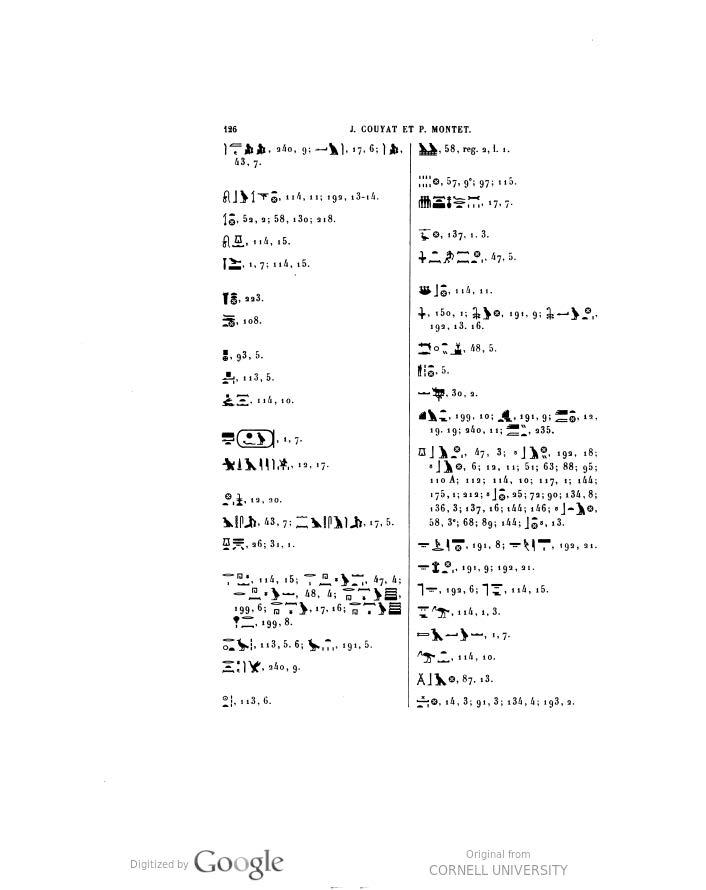circle: (235, 420, 279, 459)
